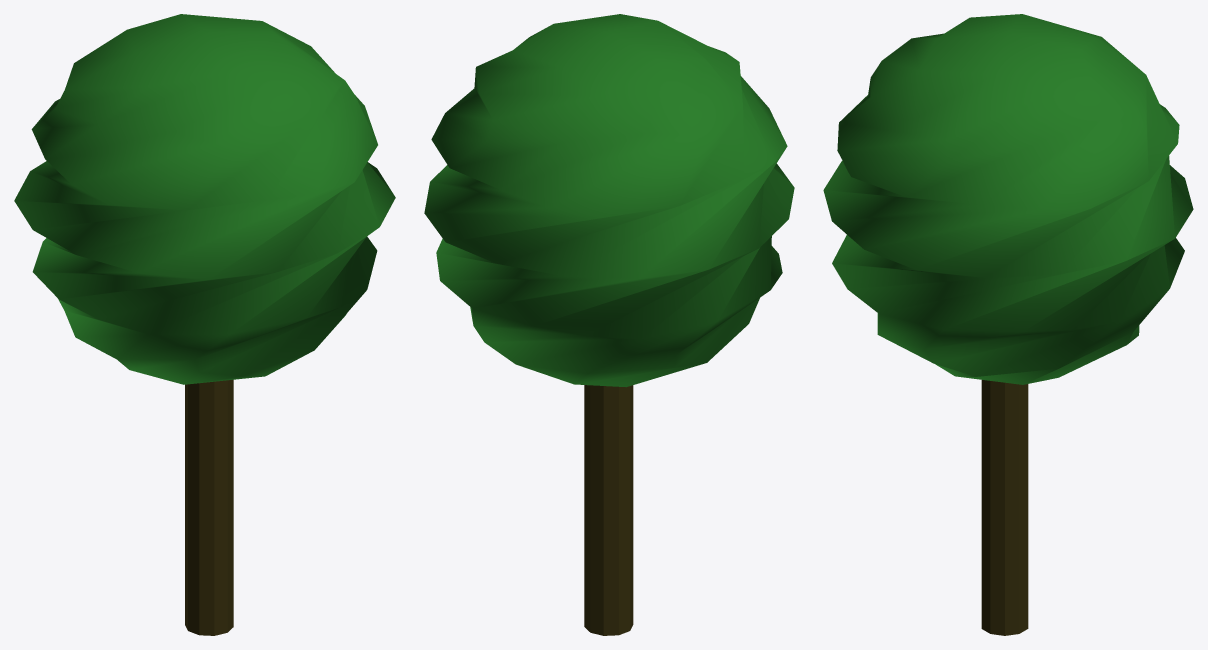
File: Tree_5_Textured.fbx
The picture shows the model from 3 angles, left to right: view 1: azimuth 30°, elevation 25°; view 2: azimuth 150°, elevation 25°; view 3: azimuth 270°, elevation 25°; orthographic projection.
Parts seen in each view (by area): view 1: polySurface21, polySurface22; view 2: polySurface21, polySurface22; view 3: polySurface21, polySurface22.
Boxes of the visible parts, x1,y1,x2,y2 form: polySurface21: (14,14,395,384); polySurface22: (185,379,233,635); polySurface21: (424,14,794,387); polySurface22: (584,385,633,635); polySurface21: (823,14,1193,384); polySurface22: (981,380,1028,635).
Size of the model in its own units: 7.64 by 13.46 by 7.64.
